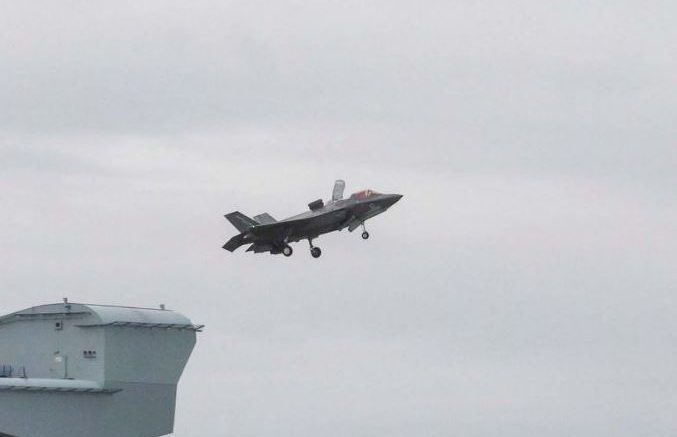F-35 Lightning: (209, 168, 416, 284)
